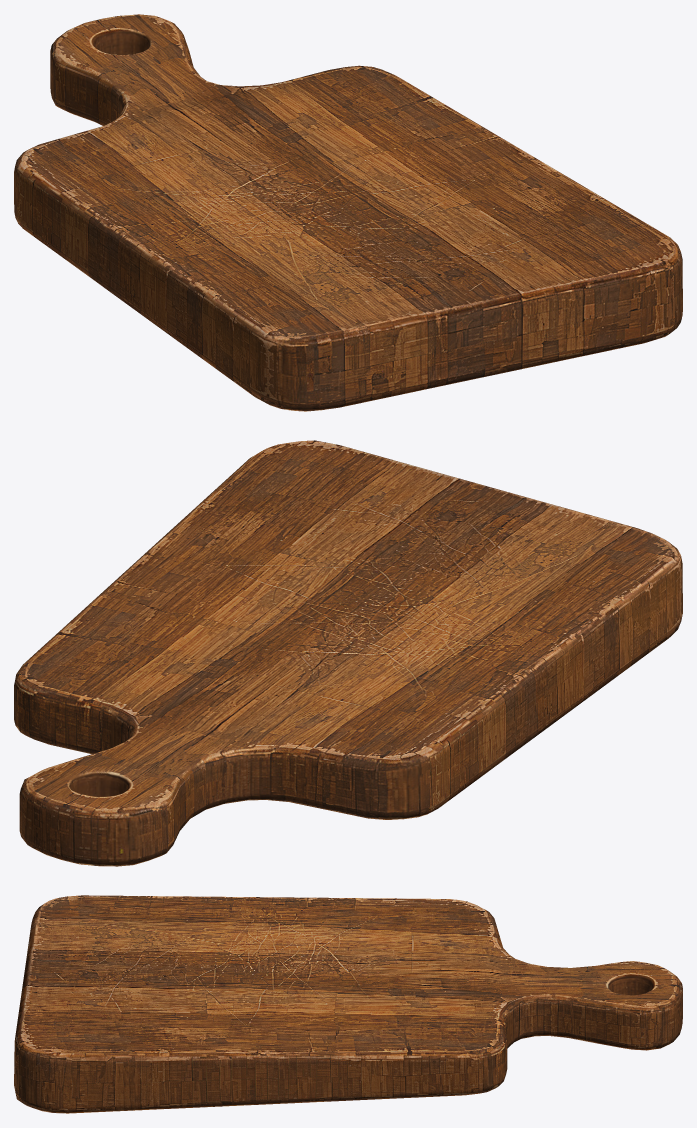
File: P29_cutting_board_Runtime_1k.glb
3 views of the same model, one above another, from view 1: azimuth 30°, elevation 25°; view 2: azimuth 150°, elevation 25°; view 3: azimuth 270°, elevation 25° (orthographic). The views are drawn at different scales.
Parts seen in each view (by area): view 1: tripo_node_6353a66b; view 2: tripo_node_6353a66b; view 3: tripo_node_6353a66b.
Part boxes in pixels (left/top/right/bottom): tripo_node_6353a66b: left=14, top=14, right=682, bottom=411; tripo_node_6353a66b: left=14, top=440, right=682, bottom=866; tripo_node_6353a66b: left=14, top=895, right=682, bottom=1113.
Bounding box in the file's own units: 0.2456 × 0.0425 × 0.42.
Materials: 1 (1 with a texture image).
